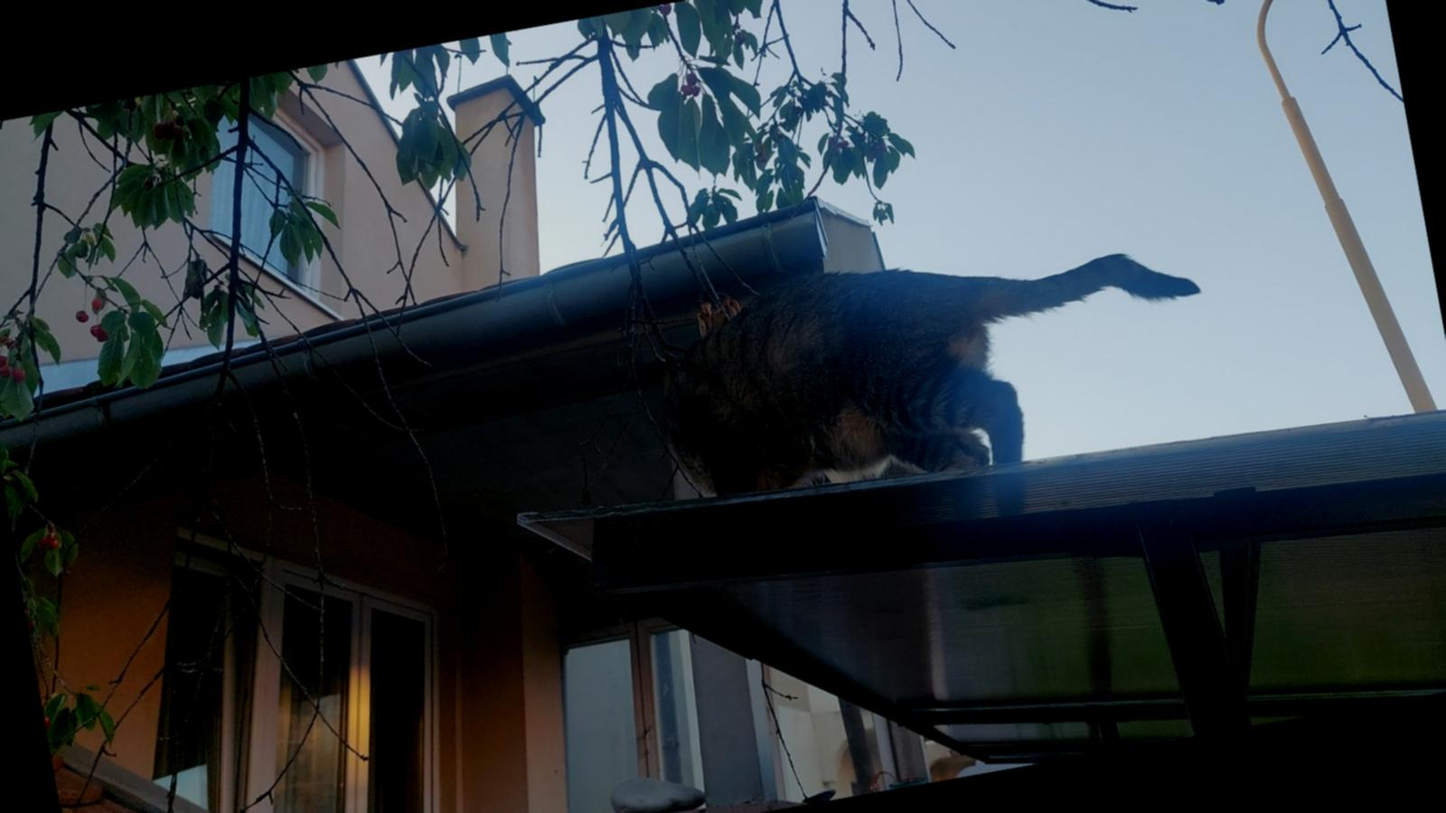macka: (646, 210, 1232, 570)
